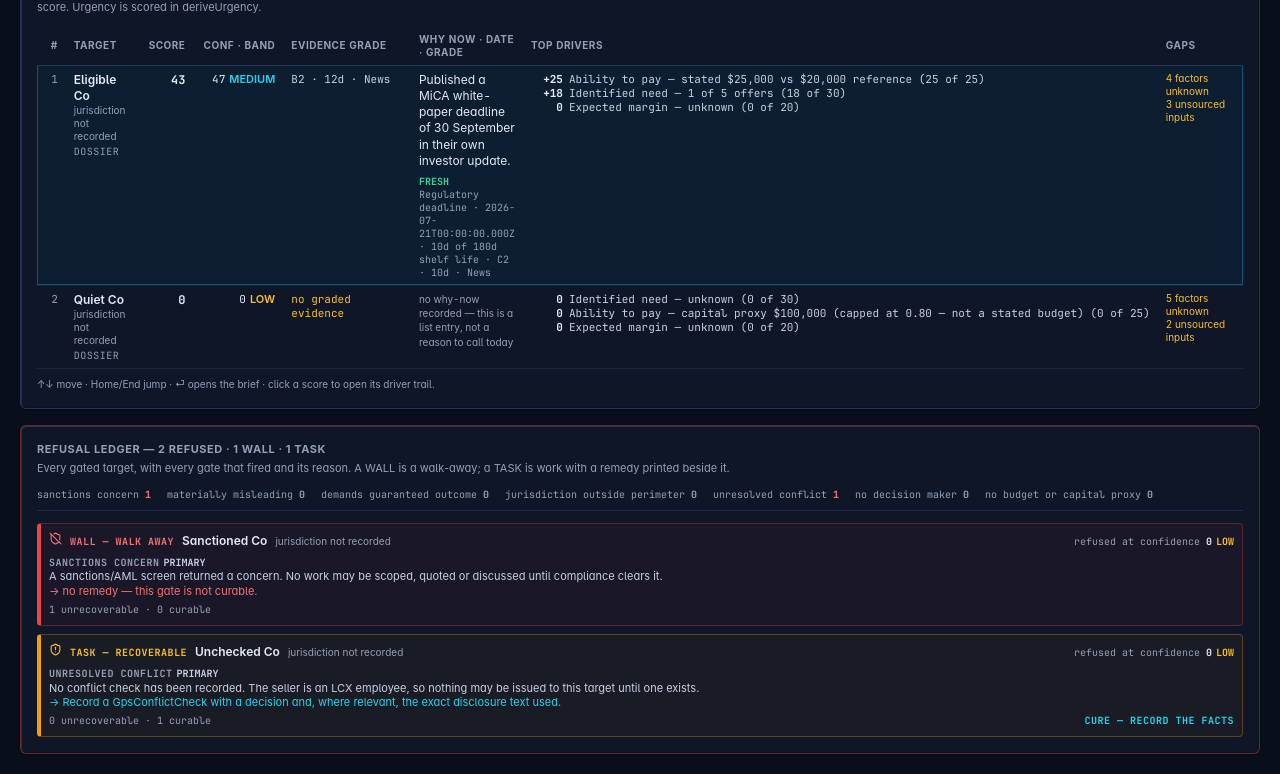
Test: the cure form › refuses a non-numeric money field with a sentence, and nothing is saved
The image size is (1280, 774).
(page scrolled)
Click the button with test id "cure-open-t-task" at (1159, 721), box [1084, 713, 1234, 728]
(page scrolled)
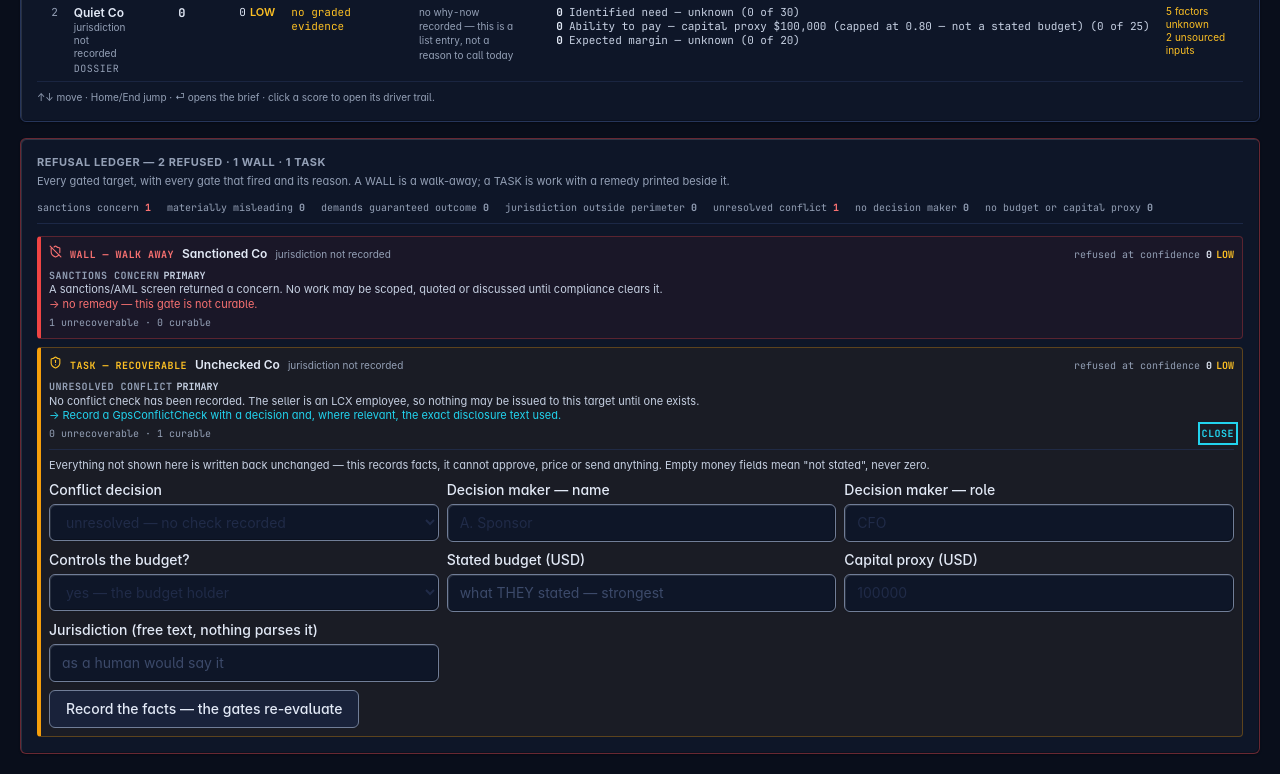
Now the element with test id "cure-form-t-task" is shown, box [49, 449, 1234, 728]
Type "about twenty grand" into the field labelled "Stated budget (USD)" at (642, 593), box [447, 574, 836, 612]
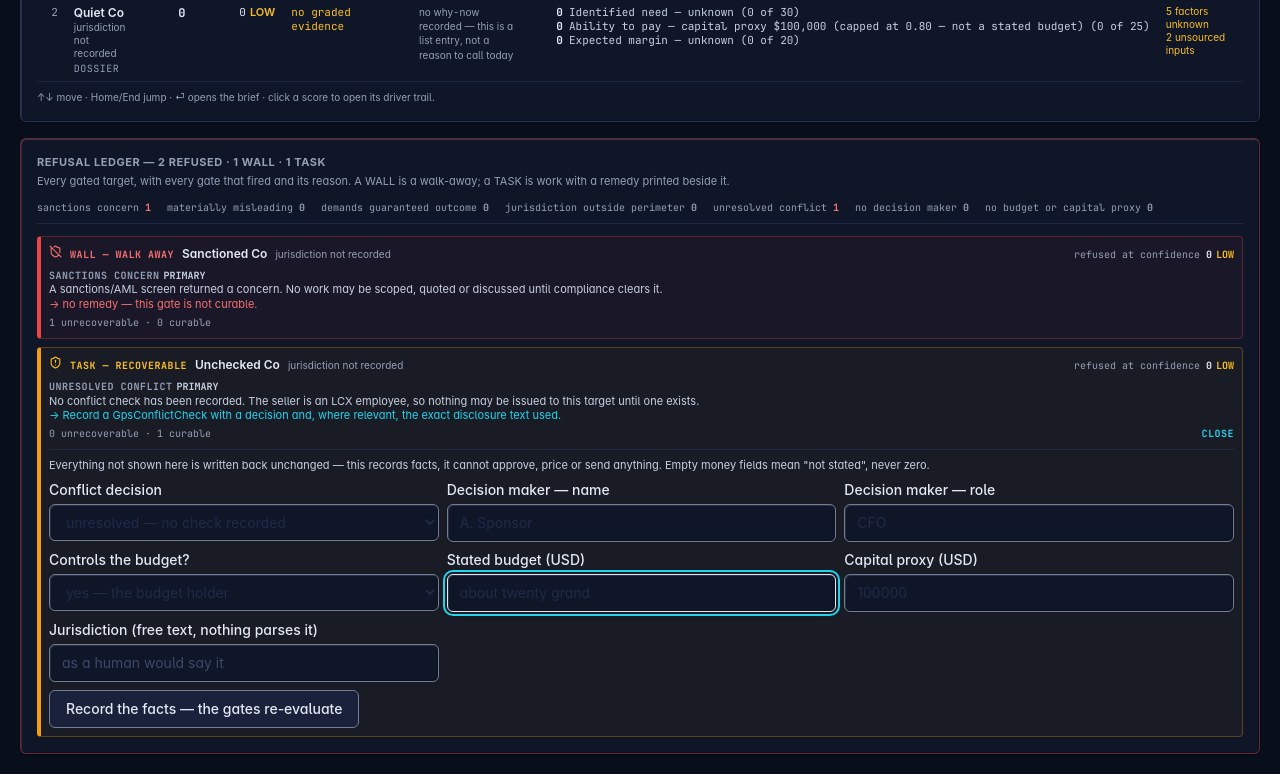
Click the button with test id "cure-save-t-task" at (204, 709), box [49, 690, 359, 728]
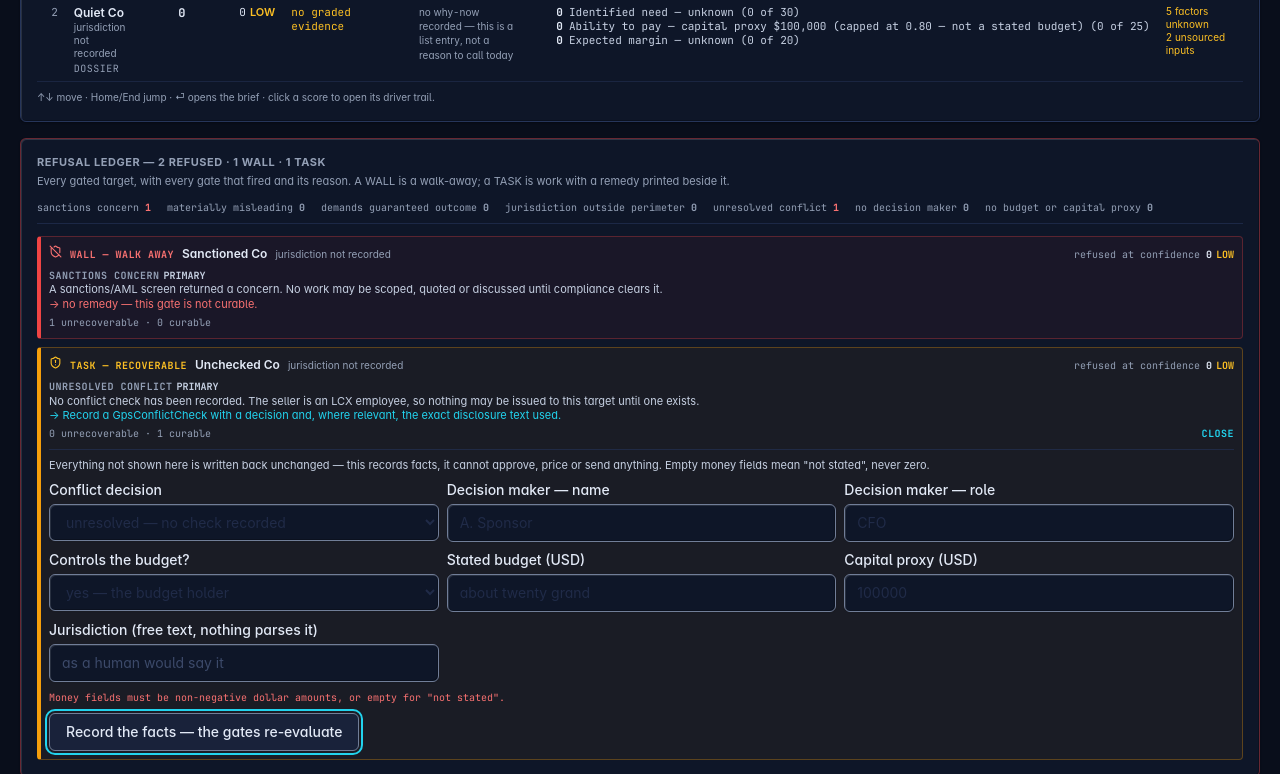
Now the message with test id "cure-save-error" shows "non-negative dollar amounts", box [49, 691, 505, 704]
